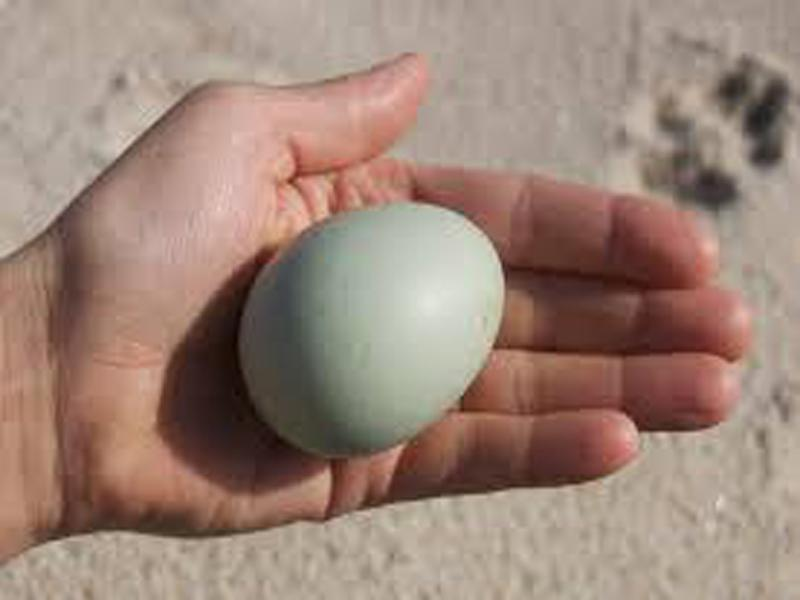Eggs: (243, 204, 507, 455)
